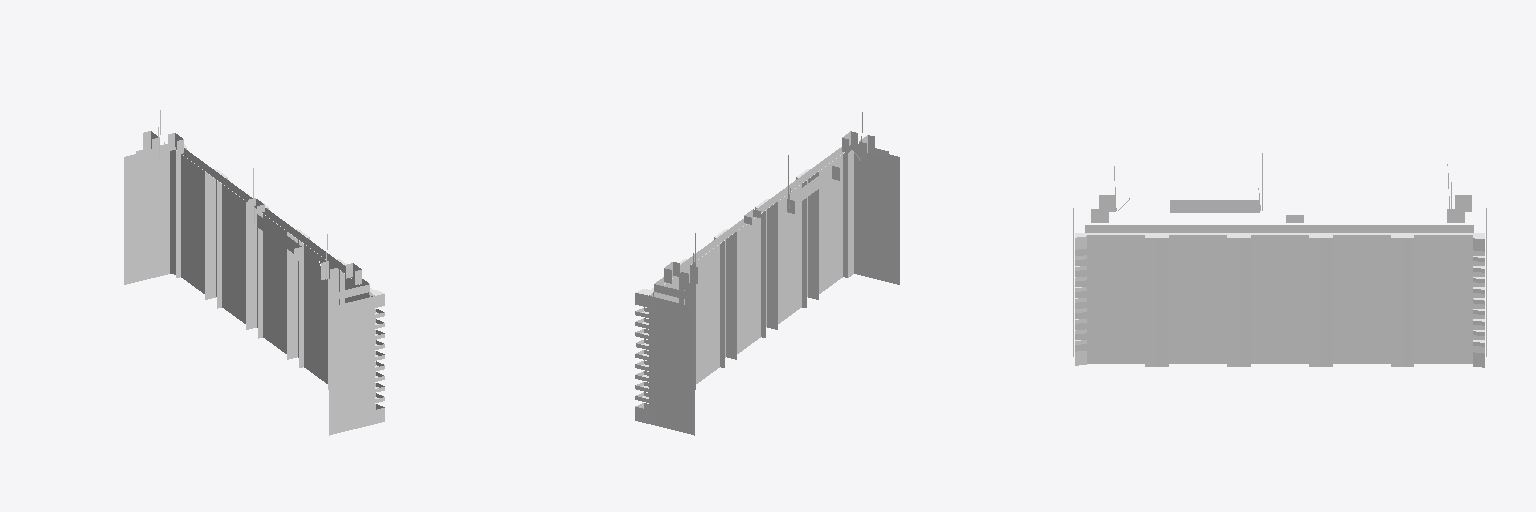
The model's file is longbuild.obj.
3 views of the same model, side by side, from view 1: azimuth 30°, elevation 25°; view 2: azimuth 150°, elevation 25°; view 3: azimuth 270°, elevation 25° (orthographic).
Parts seen in each view (by area): view 1: longbuild; view 2: longbuild; view 3: longbuild.
Part boxes in pixels (x1,y1,x2,y2): longbuild: (124, 110, 384, 435); longbuild: (635, 112, 899, 435); longbuild: (1073, 153, 1486, 367).
Size of the model in its own units: 10.86 by 33.55 by 64.4.